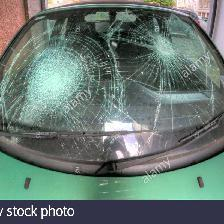broken_glass: (4, 6, 222, 197)
